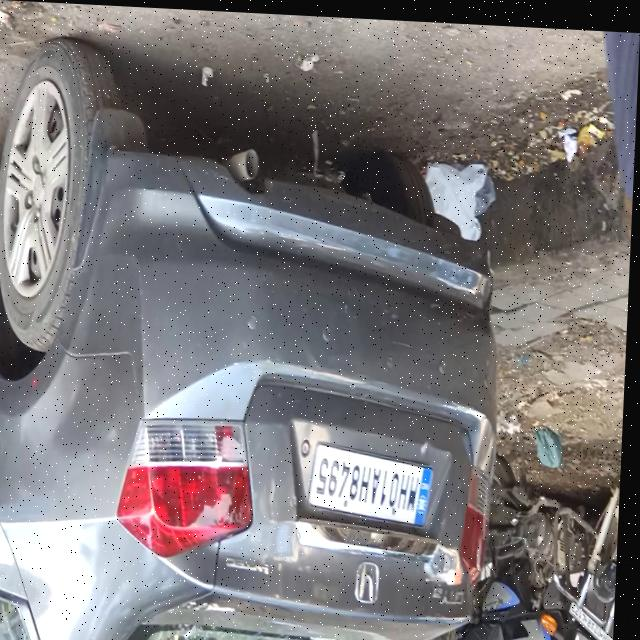plate: (312, 438, 439, 525)
